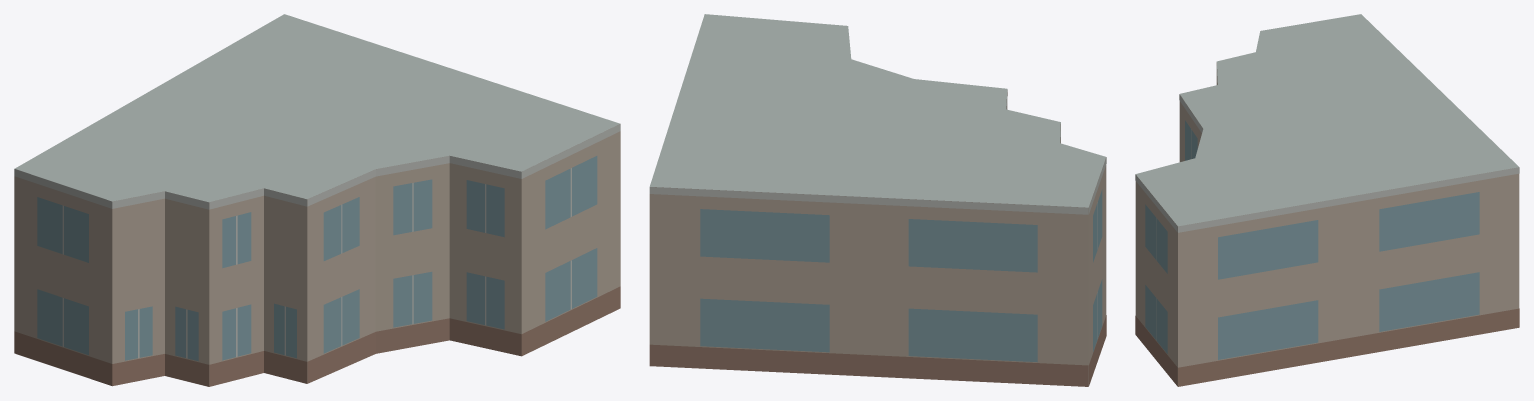
File: survey-upis-32832358.glb
3 views of the same model, side by side, from view 1: azimuth 30°, elevation 25°; view 2: azimuth 150°, elevation 25°; view 3: azimuth 270°, elevation 25° (orthographic). The views are drawn at different scales.
Parts seen in each view (by area): view 1: survey-upis-32832358.tmp; view 2: survey-upis-32832358.tmp; view 3: survey-upis-32832358.tmp.
Part boxes in pixels (bbox=[...]): survey-upis-32832358.tmp: bbox=[14, 14, 620, 386]; survey-upis-32832358.tmp: bbox=[649, 14, 1106, 386]; survey-upis-32832358.tmp: bbox=[1135, 14, 1519, 386].
Bounding box in the file's own units: 17.33 × 6.1 × 13.24.
